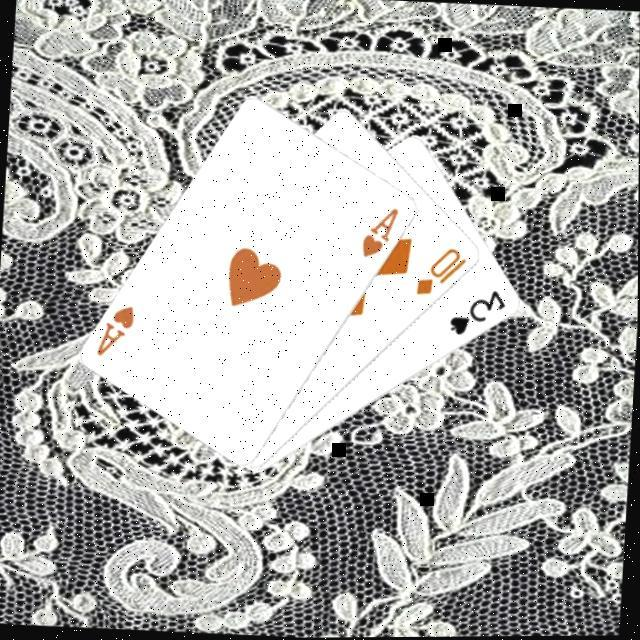10D: (412, 246, 471, 304)
3S: (444, 288, 510, 342)
AH: (92, 303, 138, 363), (357, 204, 402, 264)
